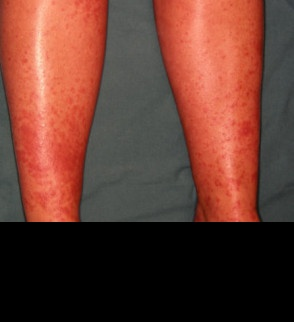SJS-TEN: (149, 0, 272, 225), (0, 0, 108, 222)
